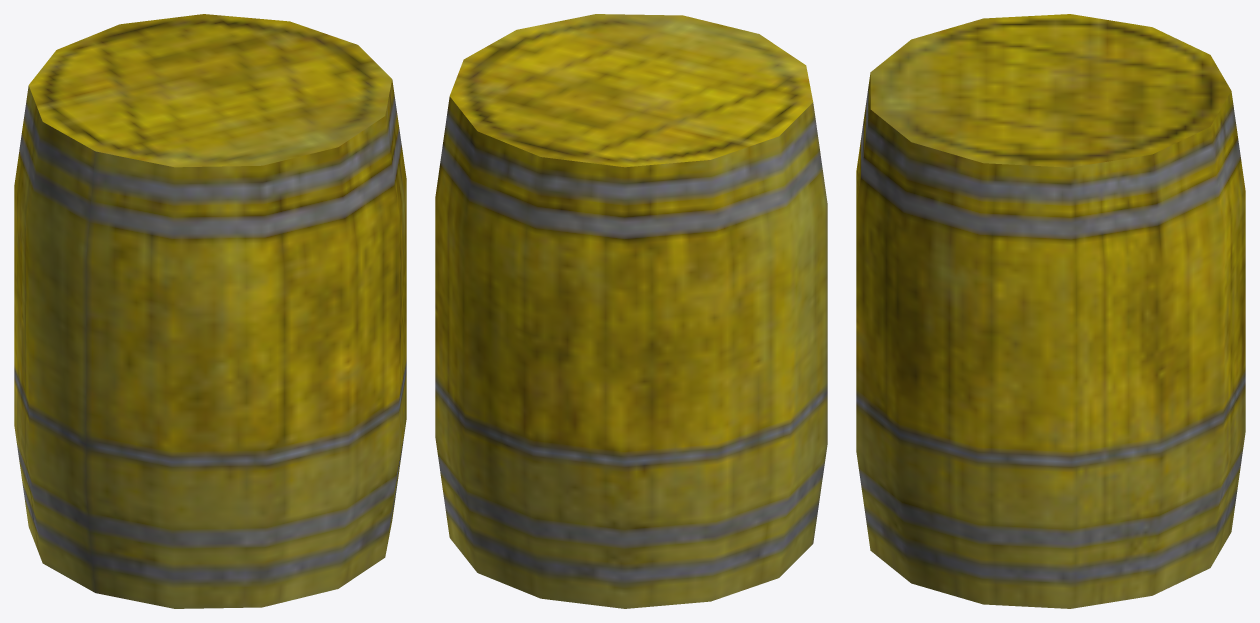
Rendered from wooden_drum_1.fbx.
The picture shows the model from 3 angles, left to right: view 1: azimuth 30°, elevation 25°; view 2: azimuth 150°, elevation 25°; view 3: azimuth 270°, elevation 25°; orthographic projection.
Visible parts, largest first — view 1: dhool; view 2: dhool; view 3: dhool.
Part boxes in pixels (<box>): dhool: <box>14,14,406,608</box>; dhool: <box>435,14,827,608</box>; dhool: <box>856,14,1245,608</box>.
Size of the model in its own units: 68.66 by 85.18 by 68.16.
